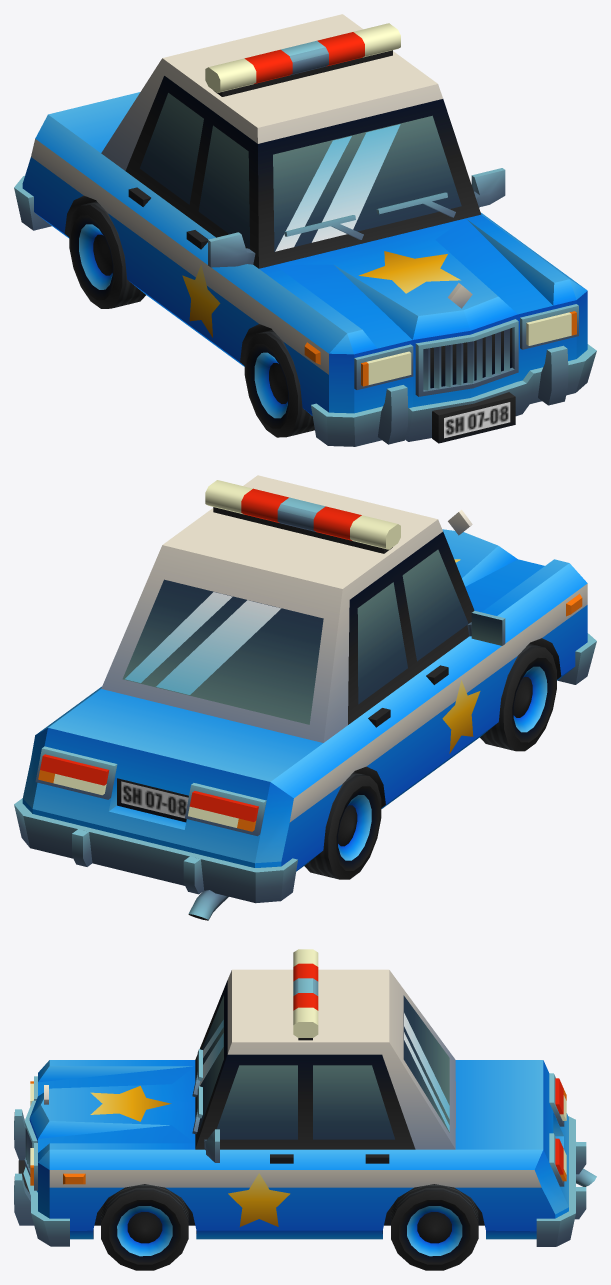
The model's file is police.glb.
3 views of the same model, one above another, from view 1: azimuth 30°, elevation 25°; view 2: azimuth 150°, elevation 25°; view 3: azimuth 270°, elevation 25° (orthographic). The views are drawn at different scales.
Parts seen in each view (by area): view 1: body; view 2: body; view 3: body.
Boxes of the visible parts, box(x1,y1,x2,y2) form: body: box(14, 14, 596, 446); body: box(14, 475, 596, 920); body: box(14, 949, 596, 1270).
Size of the model in its own units: 0.9686 by 0.8868 by 2.01.
1 material, 1 textured.
